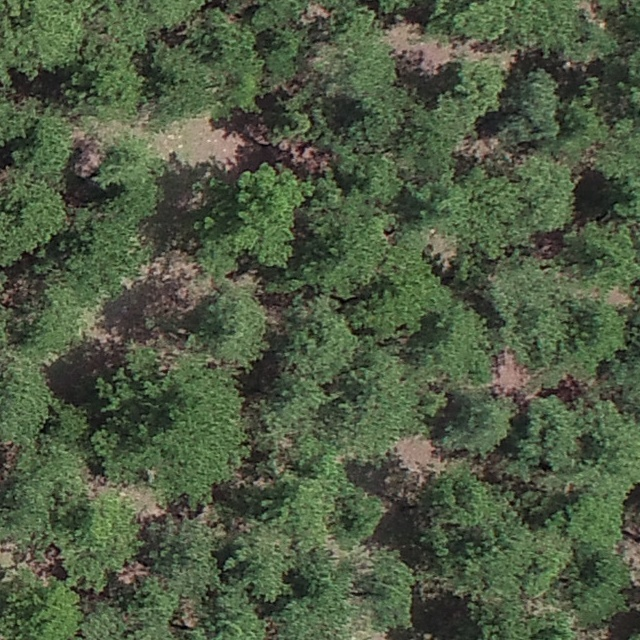unhealthy: (139, 251, 207, 321), (279, 138, 333, 175), (71, 142, 105, 181), (116, 560, 150, 584)
